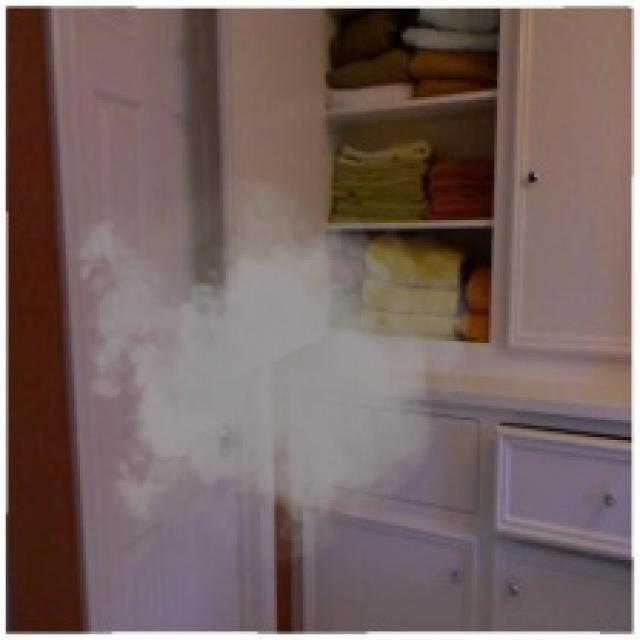Smoke: (66, 157, 477, 583)
